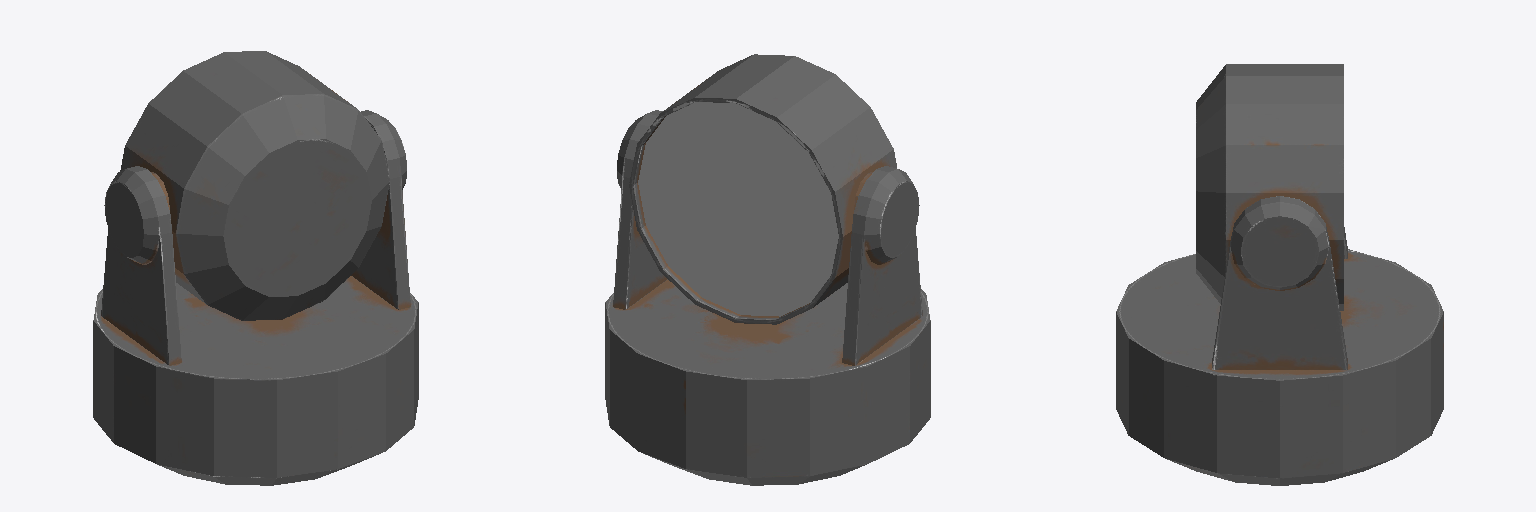
The picture shows the model from 3 angles: view 1: azimuth 30°, elevation 25°; view 2: azimuth 150°, elevation 25°; view 3: azimuth 270°, elevation 25°; orthographic projection.
Visible parts, largest first — view 1: LightBase_meshId1_name; view 2: LightBase_meshId1_name, Glass_meshId0_name; view 3: LightBase_meshId1_name.
Boxes of the visible parts, <box> form: LightBase_meshId1_name: <box>93,51,418,485</box>; LightBase_meshId1_name: <box>605,54,930,485</box>; Glass_meshId0_name: <box>638,102,838,316</box>; LightBase_meshId1_name: <box>1116,64,1443,485</box>.
Bounding box in the file's own units: 0.0165 × 0.02 × 0.0165.
2 materials, 1 textured.